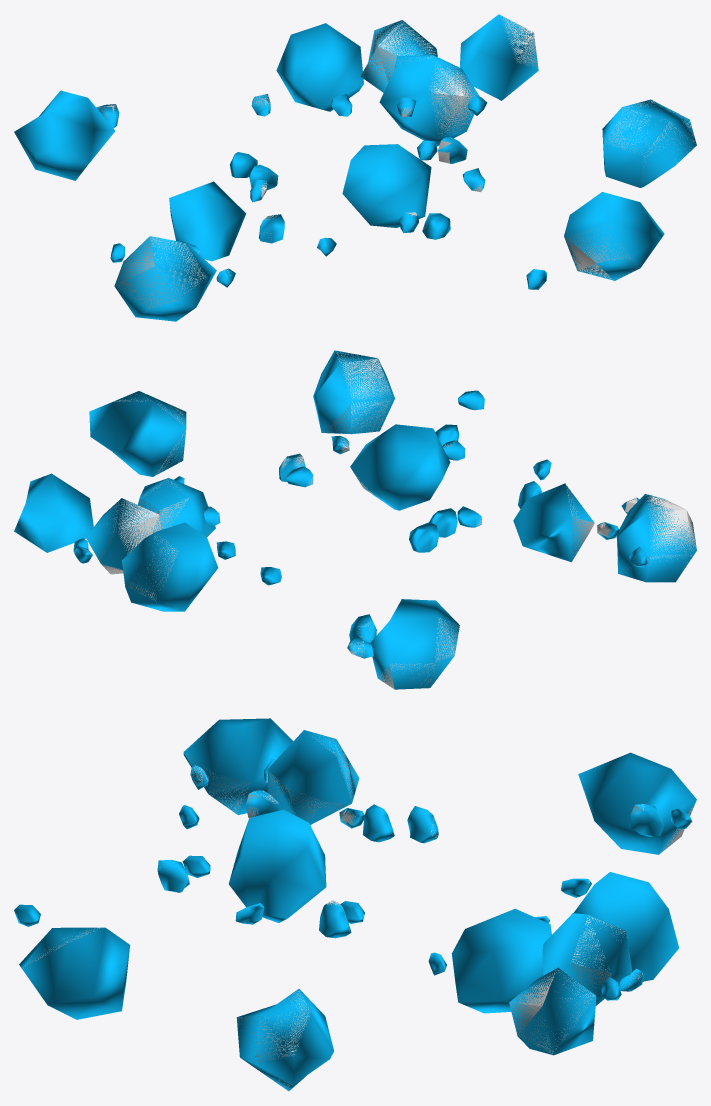
File: PF_Rock_Rubble.glb
3 renders of one model, top to bottom at view 1: azimuth 30°, elevation 25°; view 2: azimuth 150°, elevation 25°; view 3: azimuth 270°, elevation 25°, orthographic. The views are drawn at different scales.
Visible parts, largest first — view 1: SM_Rock_Rubble-gcc-stone, SM_Rock_Rubble; view 2: SM_Rock_Rubble-gcc-stone, SM_Rock_Rubble; view 3: SM_Rock_Rubble-gcc-stone, SM_Rock_Rubble.
Part boxes in pixels (bbox=[...]): SM_Rock_Rubble-gcc-stone: bbox=[14, 14, 696, 321]; SM_Rock_Rubble: bbox=[96, 16, 695, 308]; SM_Rock_Rubble-gcc-stone: bbox=[14, 350, 696, 689]; SM_Rock_Rubble: bbox=[98, 352, 696, 689]; SM_Rock_Rubble-gcc-stone: bbox=[14, 718, 696, 1091]; SM_Rock_Rubble: bbox=[22, 736, 695, 1089].
Bounding box in the file's own units: 15.84 × 2.77 × 13.77.
